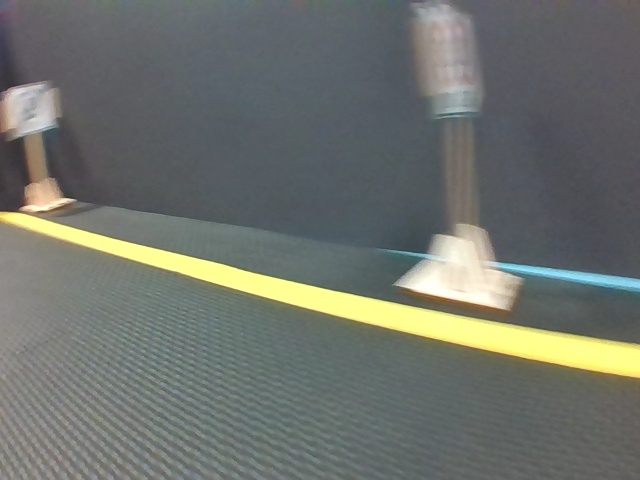30: (431, 8, 484, 119)
no30: (4, 88, 58, 132)
